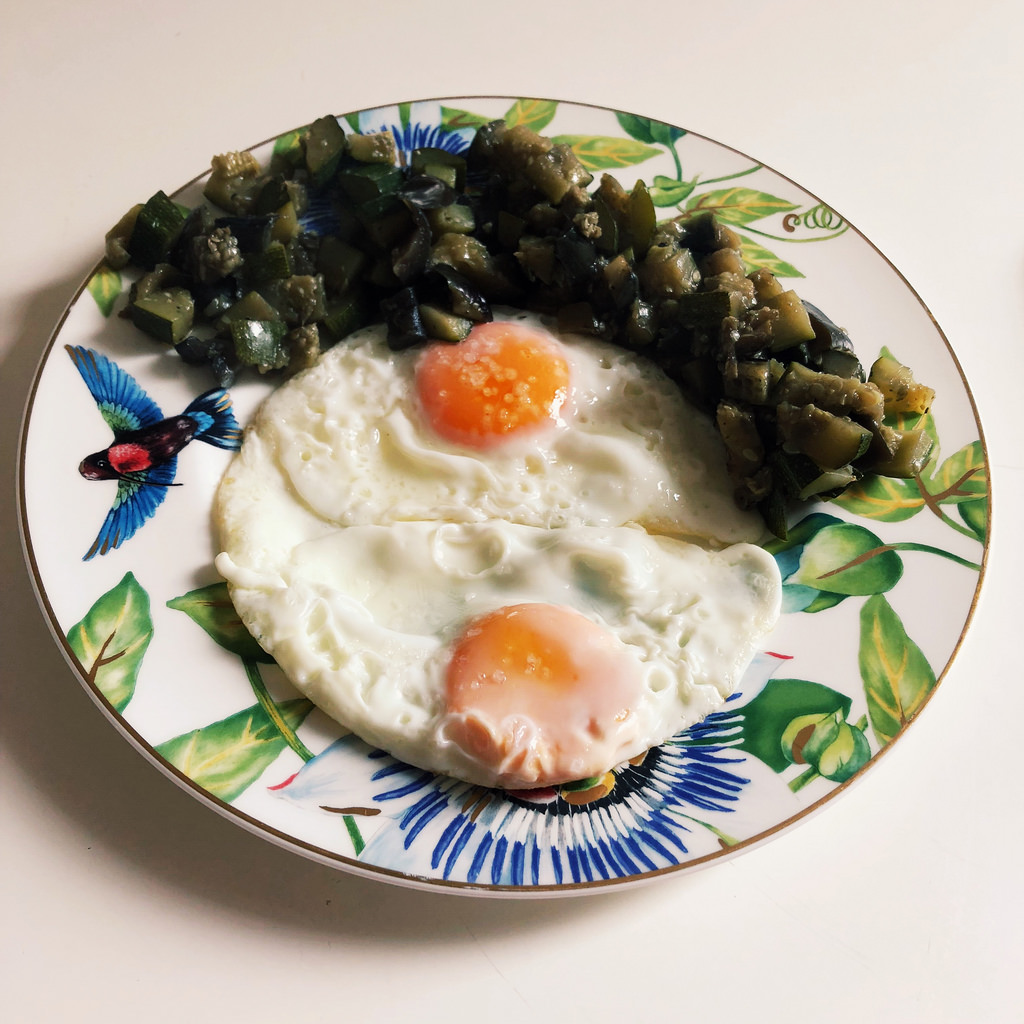fried egg: (252, 340, 775, 789)
